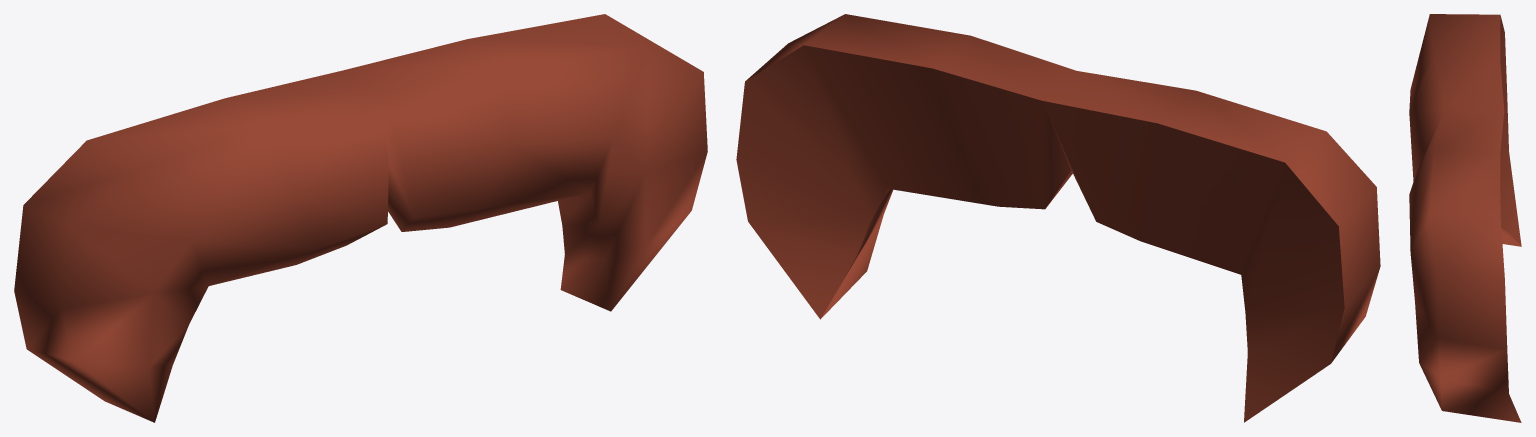
Rendered from Beard_Brown_5.fbx.
3 renders of one model, left to right at view 1: azimuth 30°, elevation 25°; view 2: azimuth 150°, elevation 25°; view 3: azimuth 270°, elevation 25°, orthographic. The views are drawn at different scales.
Visible parts, largest first — view 1: Beard_Brown_5; view 2: Beard_Brown_5; view 3: Beard_Brown_5.
Part boxes in pixels (x1,y1,x2,y2): Beard_Brown_5: (14,14,707,422); Beard_Brown_5: (736,14,1380,422); Beard_Brown_5: (1409,14,1521,422).
Bounding box in the file's own units: 30.33 × 12.89 × 5.69.
